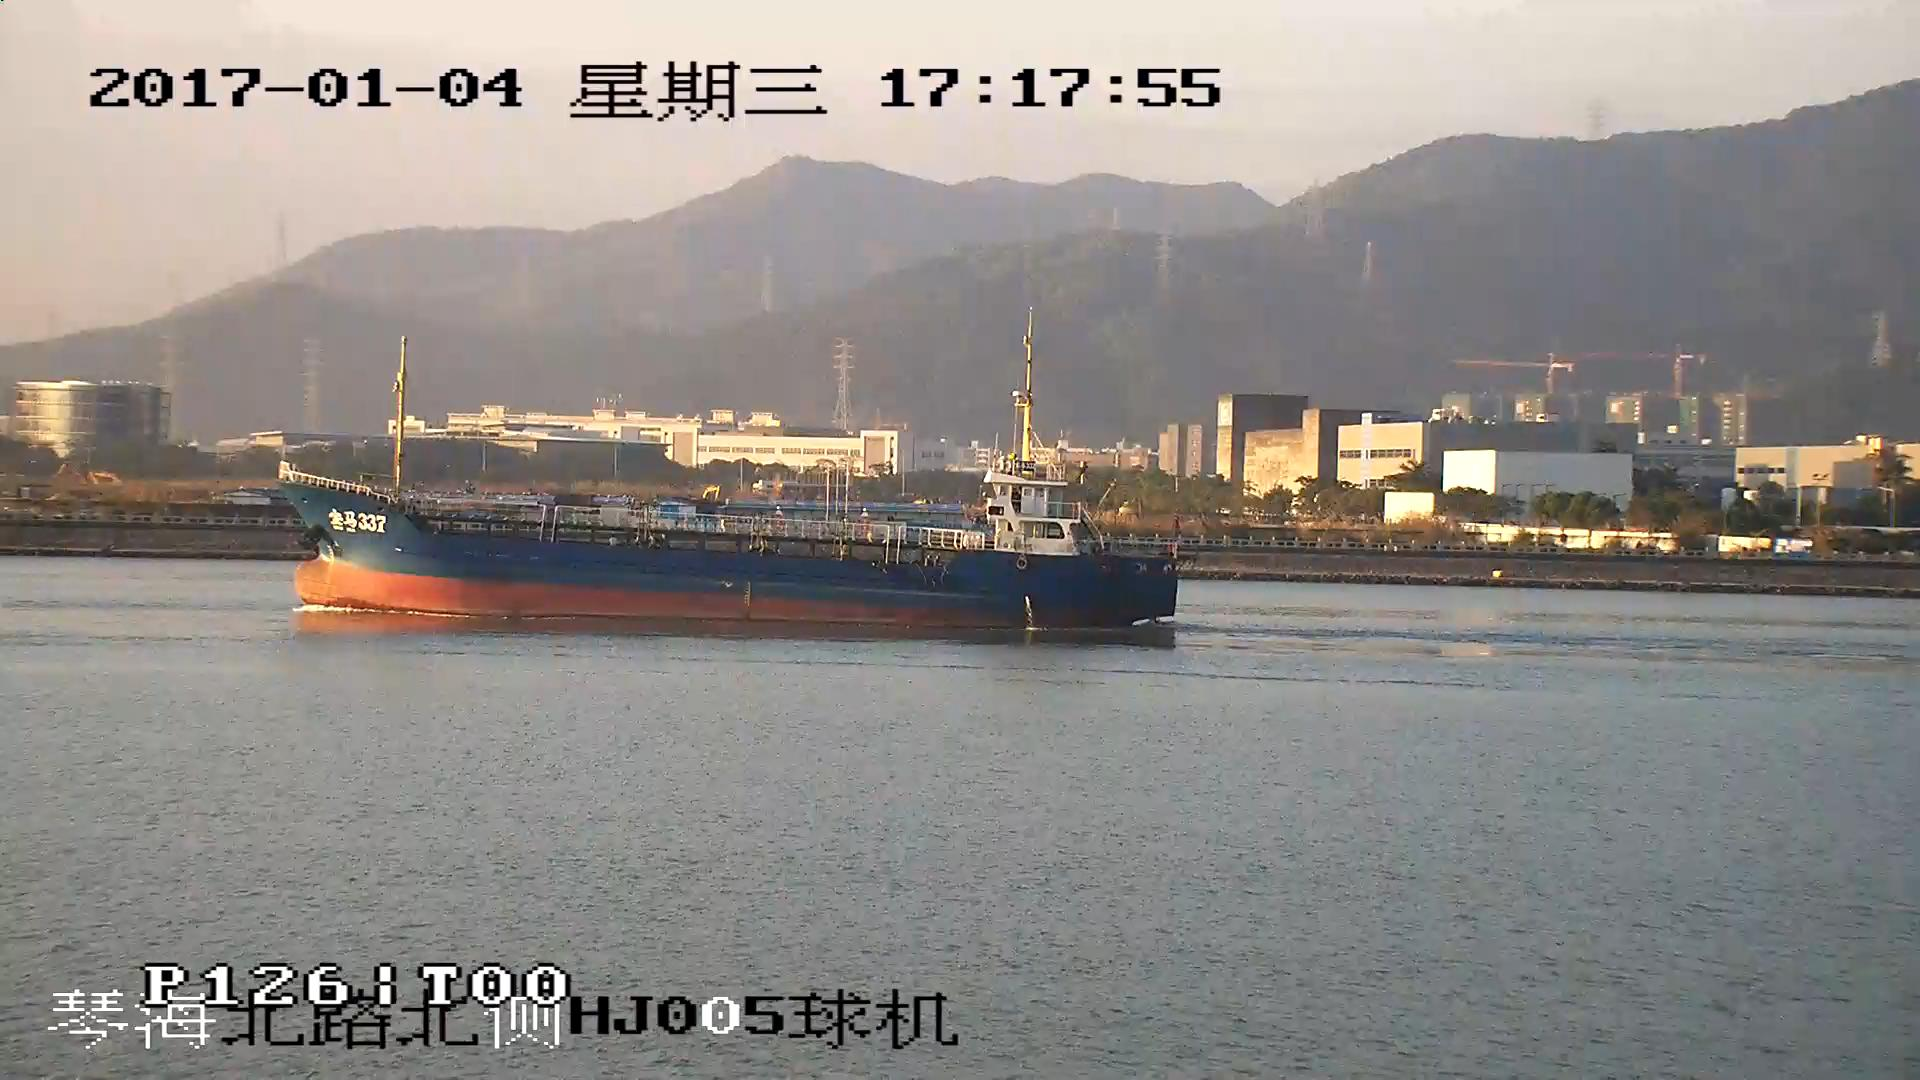general cargo ship: (278, 326, 1181, 626)
